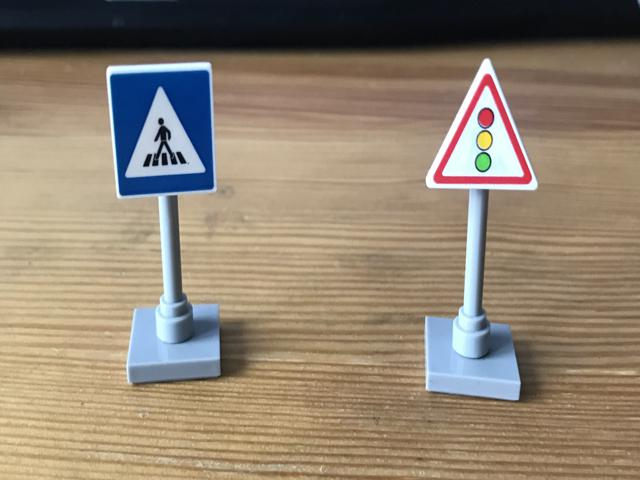fußgängerüberweg: (108, 62, 215, 193)
lichtzeichenanlage: (427, 66, 538, 188)
